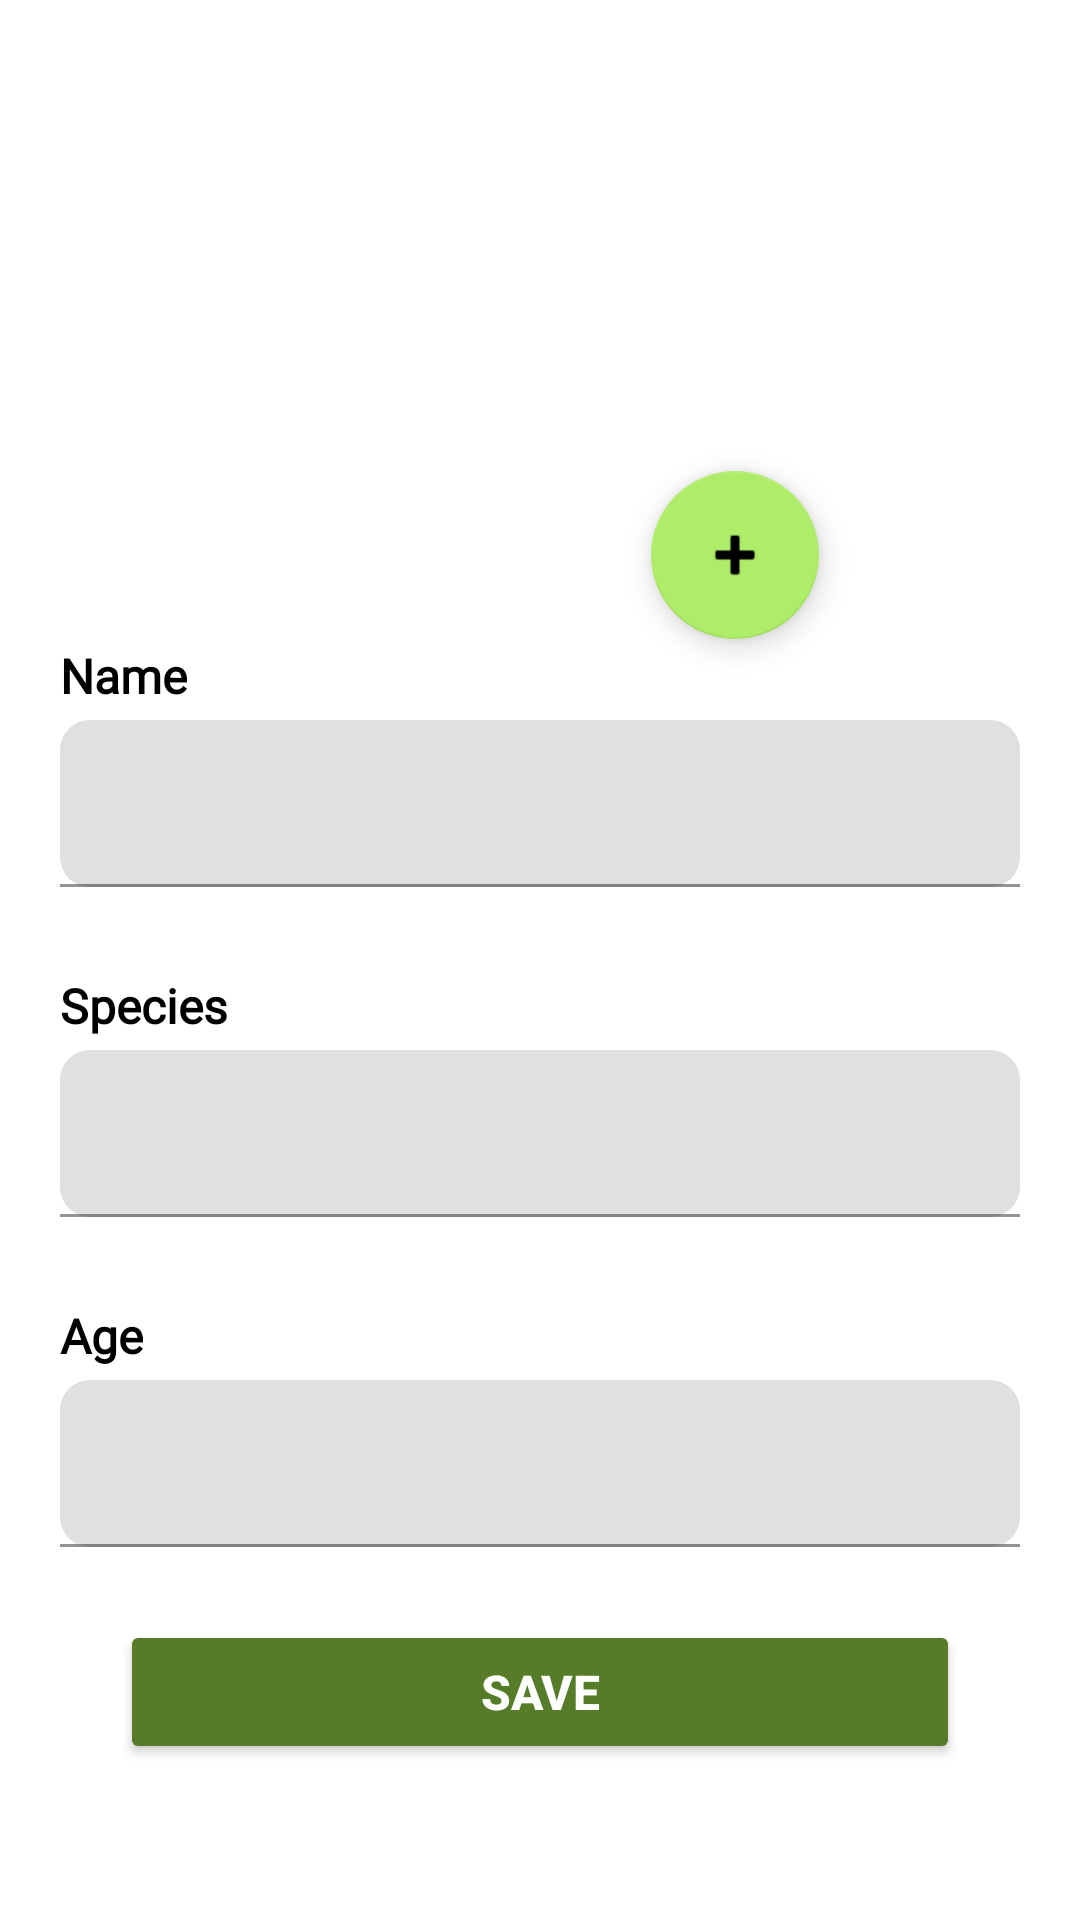

Named icons in this screenshot (1080px x 1920px) and their bounding boxes, box(x1, y1, x2, y2):
add: box(651, 471, 819, 639)
